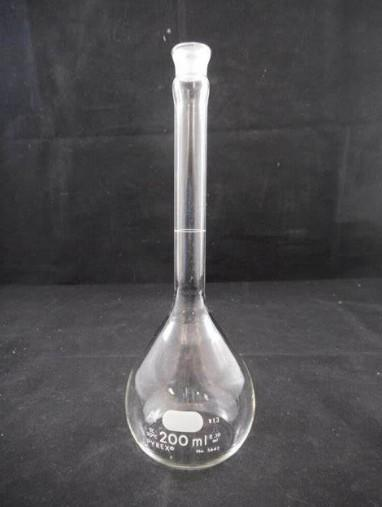Volumetric flask: (109, 36, 276, 466)
